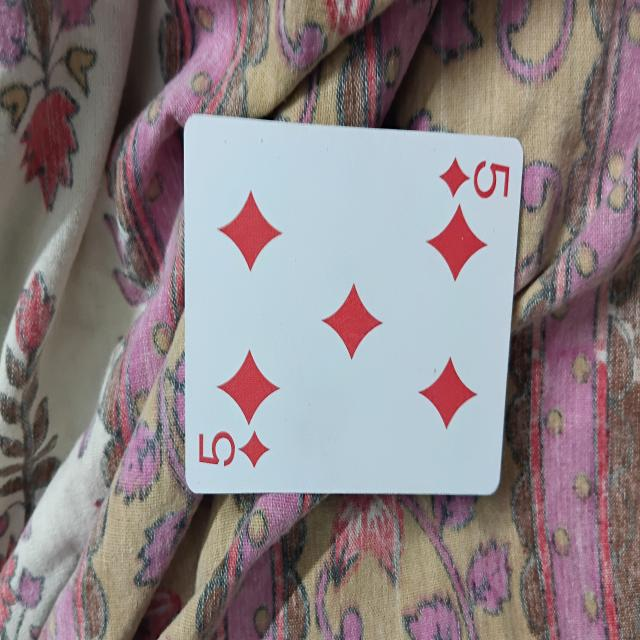5D: (181, 118, 515, 492)
